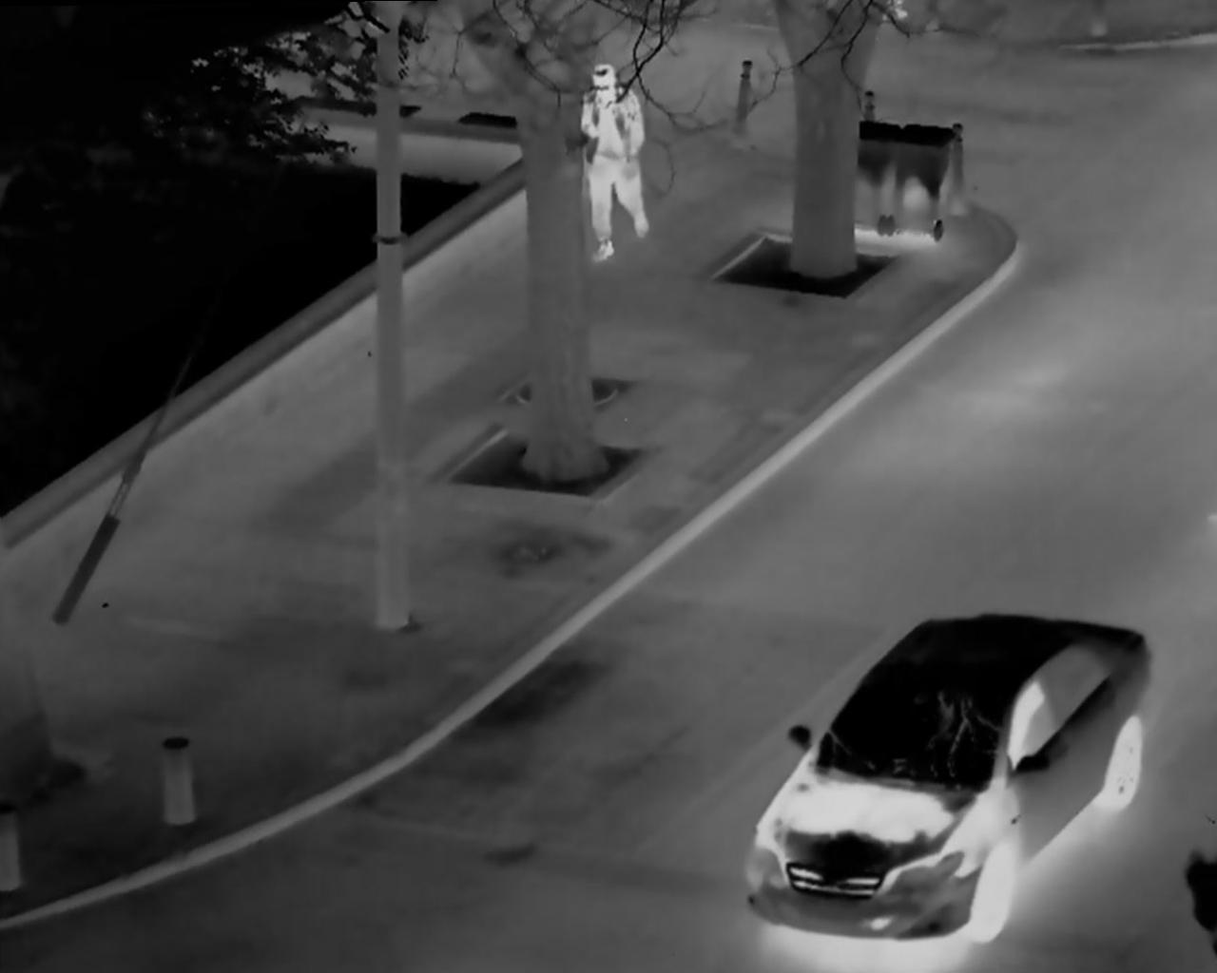person: (579, 59, 656, 263)
